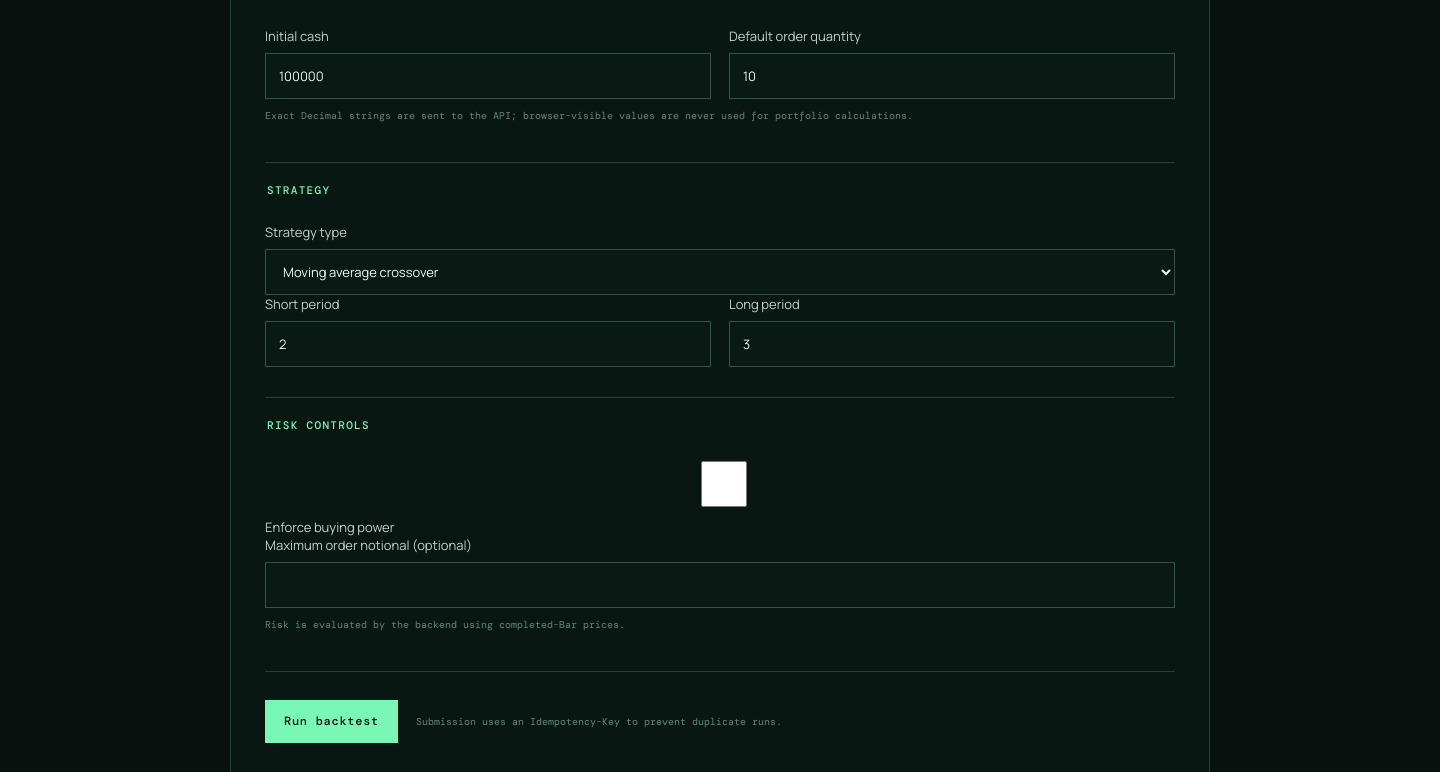
Test case: create backtest › shows a safe HTTP 409 submission error
(page scrolled)
Click the button "Run backtest".
click(332, 721)  # box [265,700,398,743]
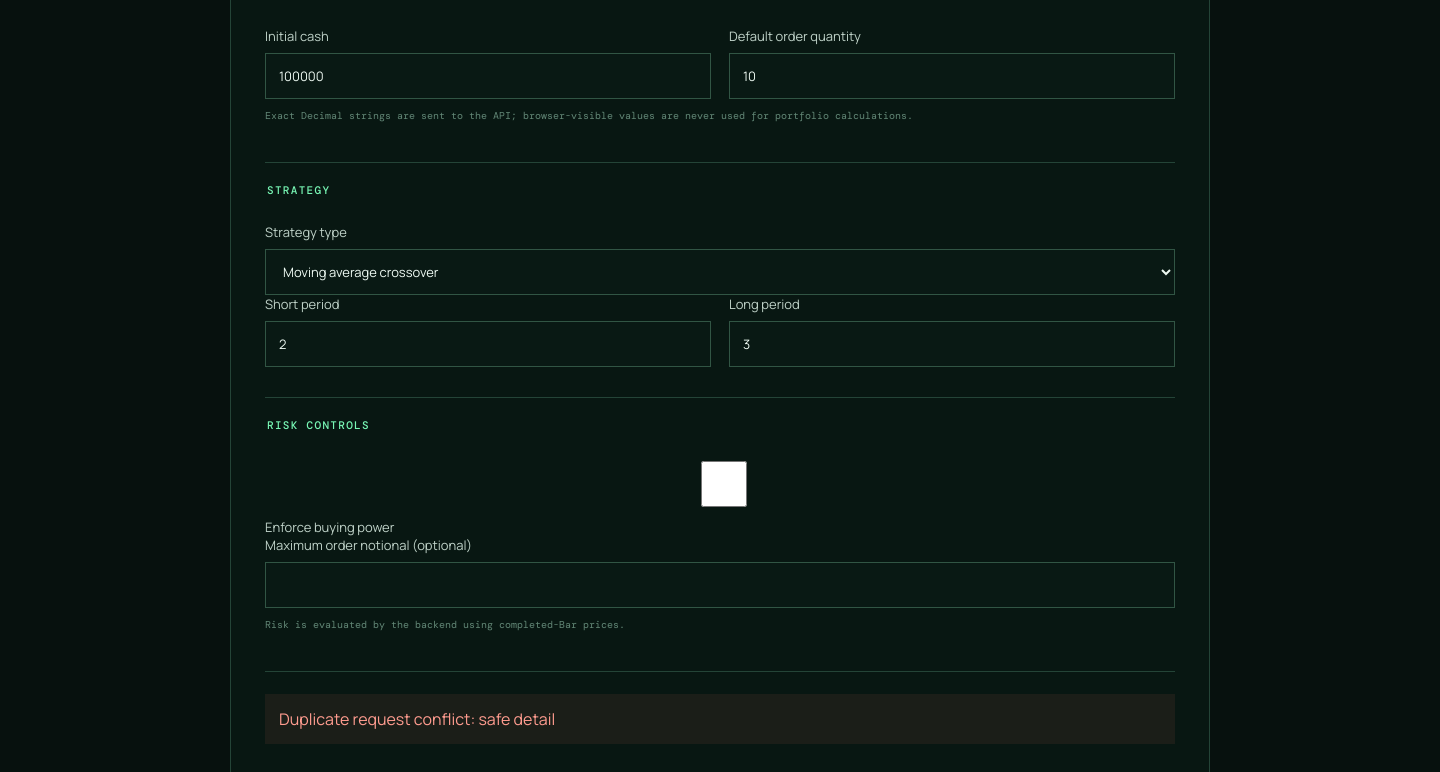
Expected: the message shows "Duplicate request conflict", [279,708,555,730]
